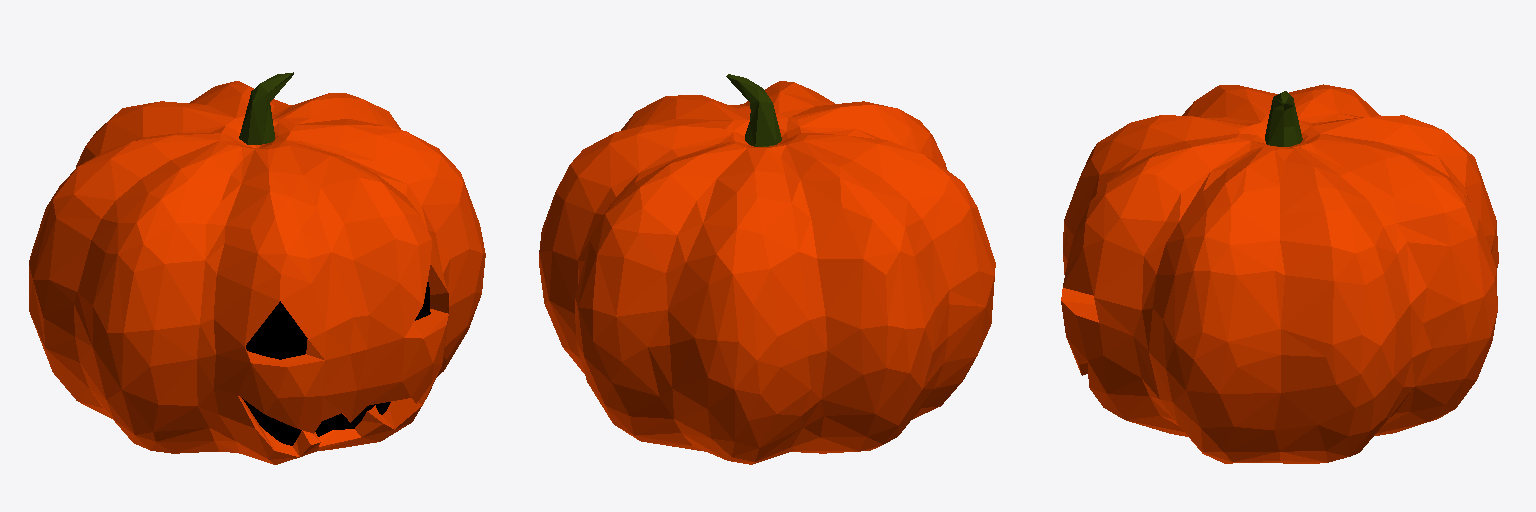
Rendered from Pumpkin.obj.
The picture shows the model from 3 angles: view 1: azimuth 30°, elevation 25°; view 2: azimuth 150°, elevation 25°; view 3: azimuth 270°, elevation 25°; orthographic projection.
Parts seen in each view (by area): view 1: Icosphere; view 2: Icosphere; view 3: Icosphere.
Part boxes in pixels (bbox=[...]): Icosphere: bbox=[29, 72, 485, 464]; Icosphere: bbox=[539, 74, 995, 464]; Icosphere: bbox=[1061, 84, 1498, 463].
Size of the model in its own units: 1.09 by 0.9453 by 1.08.